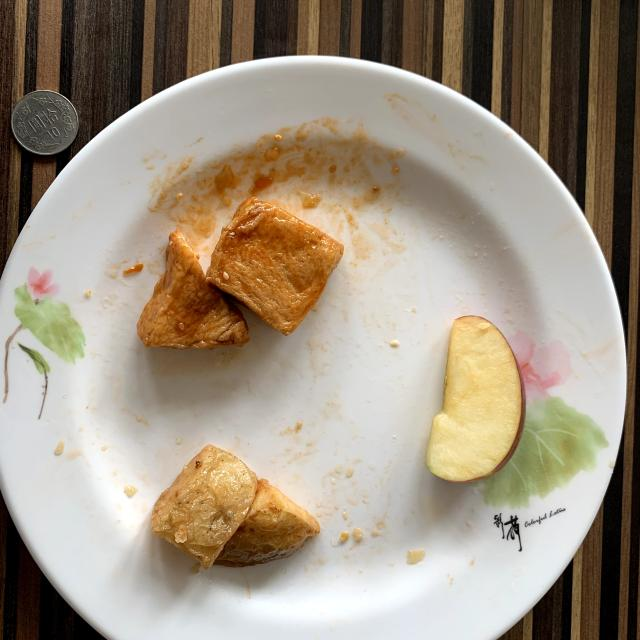apple -sliced-: (425, 316, 524, 481)
coin: (11, 90, 79, 155)
creamy tofu: (138, 196, 344, 349)
fried potato: (151, 445, 320, 569)
